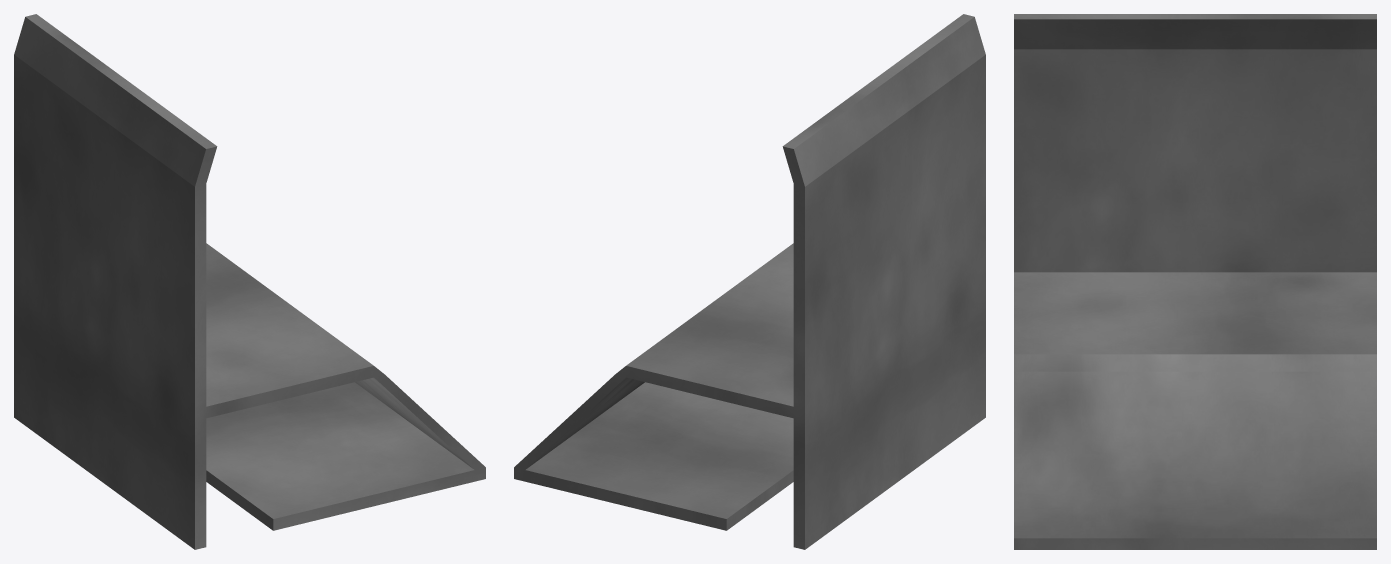
Rendered from Chair.fbx.
3 renders of one model, left to right at view 1: azimuth 30°, elevation 25°; view 2: azimuth 150°, elevation 25°; view 3: azimuth 270°, elevation 25°, orthographic.
Parts seen in each view (by area): view 1: dirty carbon dark grey Mesh (1); view 2: dirty carbon dark grey Mesh (1); view 3: dirty carbon dark grey Mesh (1).
Boxes of the visible parts, x1,y1,x2,y2 form: dirty carbon dark grey Mesh (1): [14, 14, 485, 549]; dirty carbon dark grey Mesh (1): [514, 14, 985, 549]; dirty carbon dark grey Mesh (1): [1014, 14, 1376, 549].
Size of what is drawn, in the model's own units: 1.3 by 1.7 by 1.4.
